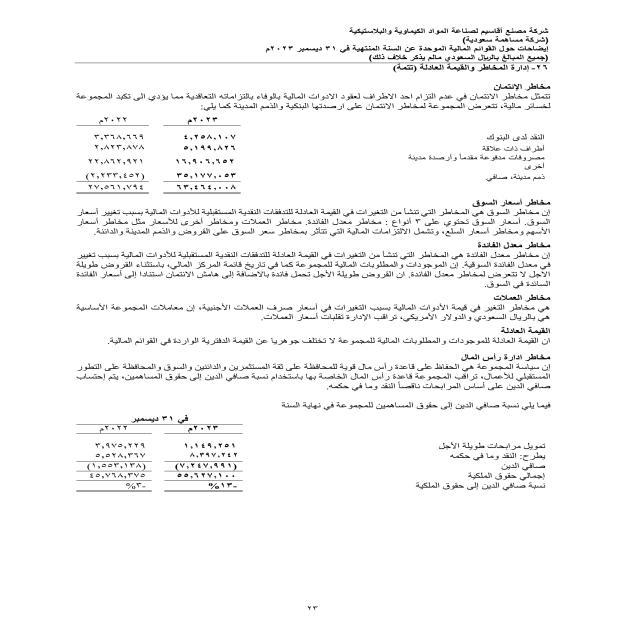notes: (444, 45, 554, 53)
table: (53, 411, 250, 508), (56, 114, 245, 196)
